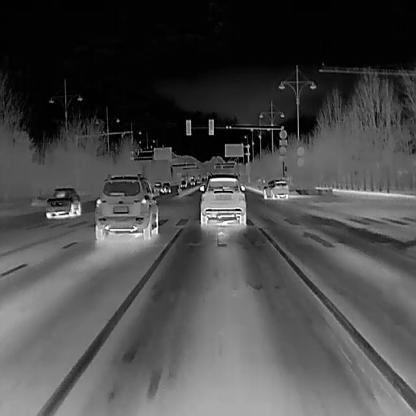car: (94, 173, 158, 241), (199, 172, 246, 228), (43, 186, 80, 218), (263, 179, 288, 199), (151, 181, 160, 193), (161, 181, 169, 191), (180, 179, 184, 187)
